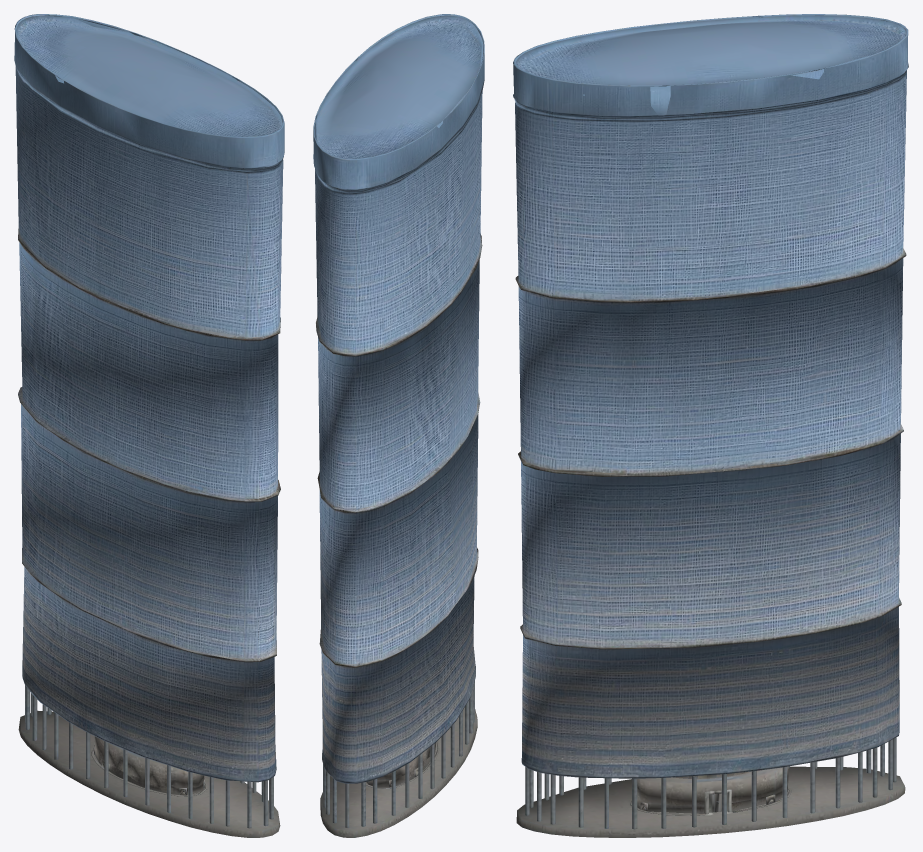
File: tower_glass_b.glb
3 renders of one model, left to right at view 1: azimuth 30°, elevation 25°; view 2: azimuth 150°, elevation 25°; view 3: azimuth 270°, elevation 25°, orthographic. The views are drawn at different scales.
Visible parts, largest first — view 1: TesanaFacingY180; view 2: TesanaFacingY180; view 3: TesanaFacingY180.
Part boxes in pixels (x1,y1,x2,y2): TesanaFacingY180: [14, 14, 284, 837]; TesanaFacingY180: [313, 14, 484, 837]; TesanaFacingY180: [513, 14, 908, 837].
Size of the model in its own units: 70.3 by 350 by 164.
Materials: 1 (1 with a texture image).
